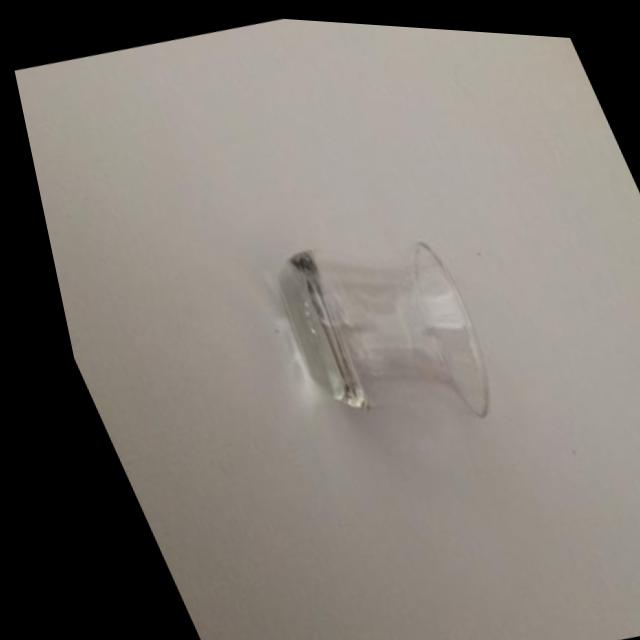glass: (182, 151, 583, 513)
